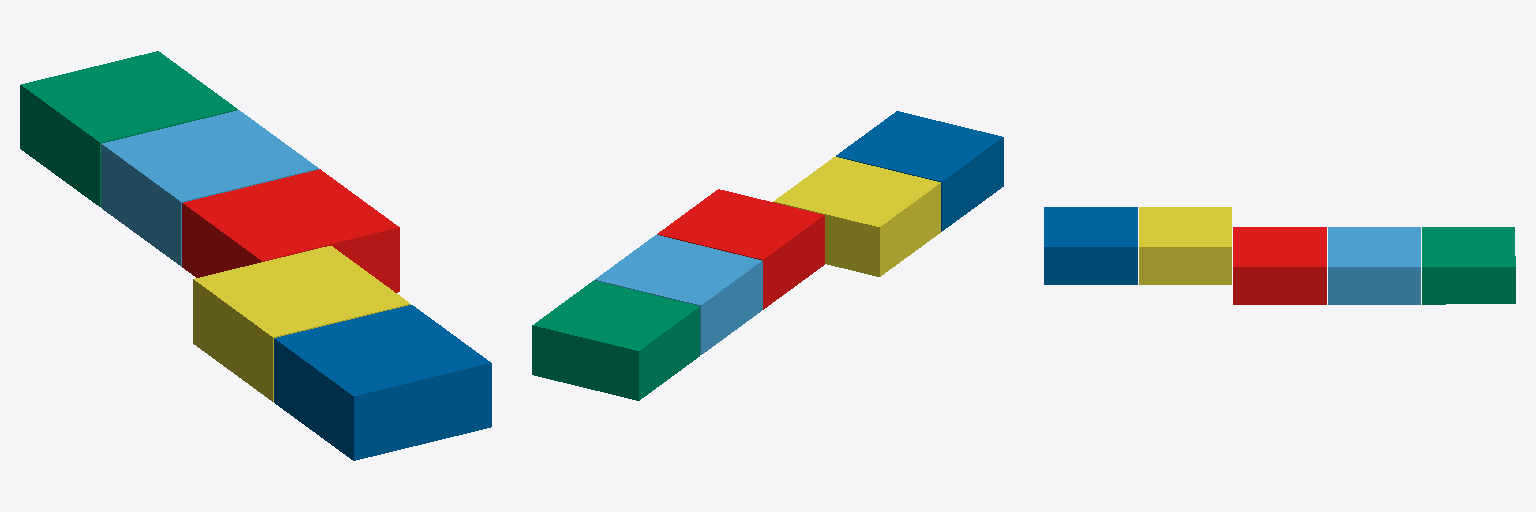
URDF robot description (estimationBasic):
<?xml version='1.0' encoding='UTF-8'?>
<robot name="estimationBasic">
  <link name="base_link">
    <inertial>
      <origin xyz="0.0 0.0 0.0" rpy="0.0 -0.0 0.0"/>
      <mass value="1.0"/>
      <inertia ixx="1.0" ixy="0.0" ixz="0.0" iyy="1.0" iyz="0.0" izz="1.0"/>
    </inertial>
    <visual>
      <geometry>
        <box size="0.67 0.67 0.3 "/>
      </geometry>
      <material name="red"/>
      <origin xyz="0.0 0.0 0.0" rpy="0.0 -0.0 0.0"/>
    </visual>
    <collision>
      <geometry>
        <box size="0.67 0.67 0.3 "/>
      </geometry>
      <origin xyz="0.0 0.0 0.0" rpy="0.0 0.0 0.0"/>
    </collision>
  </link>
  <link name="set0_arm1">
    <inertial>
      <origin xyz="0.0 0.34 0.0" rpy="0.0 0.0 0.0"/>
      <mass value="1.0"/>
      <inertia ixx="0.0" ixy="0.0" ixz="0.0" iyy="0.0" iyz="0.0" izz="0.0"/>
    </inertial>
    <visual>
      <geometry>
        <box size="0.67 0.67 0.3 "/>
      </geometry>
      <origin xyz="0.0 0.34 0.0" rpy="0.0 0.0 0.0"/>
    </visual>
    <collision>
      <geometry>
        <box size="0.67 0.67 0.3 "/>
      </geometry>
      <origin xyz="0.0 0.34 0.0" rpy="0.0 0.0 0.0"/>
    </collision>
  </link>
  <link name="set0_arm2">
    <inertial>
      <origin xyz="0.0 0.34 0.0" rpy="0.0 0.0 0.0"/>
      <mass value="1.0"/>
      <inertia ixx="0.0" ixy="0.0" ixz="0.0" iyy="0.0" iyz="0.0" izz="0.0"/>
    </inertial>
    <visual>
      <geometry>
        <box size="0.67 0.67 0.3 "/>
      </geometry>
      <origin xyz="0.0 0.34 0.0" rpy="0.0 0.0 0.0"/>
    </visual>
    <collision>
      <geometry>
        <box size="0.67 0.67 0.3 "/>
      </geometry>
      <origin xyz="0.0 0.34 0.0" rpy="0.0 0.0 0.0"/>
    </collision>
  </link>
  <link name="set1_arm1">
    <inertial>
      <origin xyz="0.0 0.34 0.0" rpy="0.0 0.0 0.0"/>
      <mass value="1.0"/>
      <inertia ixx="0.0" ixy="0.0" ixz="0.0" iyy="0.0" iyz="0.0" izz="0.0"/>
    </inertial>
    <visual>
      <geometry>
        <box size="0.67 0.67 0.3 "/>
      </geometry>
      <origin xyz="0.0 0.34 0.0" rpy="0.0 0.0 0.0"/>
    </visual>
    <collision>
      <geometry>
        <box size="0.67 0.67 0.3 "/>
      </geometry>
      <origin xyz="0.0 0.34 0.0" rpy="0.0 0.0 0.0"/>
    </collision>
  </link>
  <link name="set1_arm2">
    <inertial>
      <origin xyz="0.0 0.34 0.0" rpy="0.0 0.0 0.0"/>
      <mass value="1.0"/>
      <inertia ixx="0.0" ixy="0.0" ixz="0.0" iyy="0.0" iyz="0.0" izz="0.0"/>
    </inertial>
    <visual>
      <geometry>
        <box size="0.67 0.67 0.3 "/>
      </geometry>
      <origin xyz="0.0 0.34 0.0" rpy="0.0 0.0 0.0"/>
    </visual>
    <collision>
      <geometry>
        <box size="0.67 0.67 0.3 "/>
      </geometry>
      <origin xyz="0.0 0.34 0.0" rpy="0.0 0.0 0.0"/>
    </collision>
  </link>
  <joint name="set0_jointBase" type="fixed">
    <limit effort="1.57" velocity="1.57" lower="-1.57" upper="1.57"/>
    <parent link="base_link"/>
    <child link="set0_arm1"/>
    <axis xyz="1. 0. 0."/>
    <origin xyz="0.0 0.34 0.0" rpy="0.0 0.0 0.0008016443998810793"/>
  </joint>
  <joint name="set0_joint1" type="revolute">
    <limit effort="1.57" velocity="1.57" lower="-1.57" upper="1.57"/>
    <parent link="set0_arm1"/>
    <child link="set0_arm2"/>
    <axis xyz="1. 0. 0."/>
    <origin xyz="0.0 0.68 0.0" rpy="0.0 0.0 0.0"/>
  </joint>
  <joint name="set1_jointBase" type="fixed">
    <limit effort="1.57" velocity="1.57" lower="-1.57" upper="1.57"/>
    <parent link="base_link"/>
    <child link="set1_arm1"/>
    <axis xyz="1. 0. 0."/>
    <origin xyz="-0.34 -0.34 0.0" rpy="0.0 0.0 -3.1414337214449355"/>
  </joint>
  <joint name="set1_joint1" type="revolute">
    <limit effort="1.57" velocity="1.57" lower="-1.57" upper="1.57"/>
    <parent link="set1_arm1"/>
    <child link="set1_arm2"/>
    <axis xyz="1. 0. 0."/>
    <origin xyz="0.0 0.68 0.0" rpy="0.0 0.0 0.0"/>
  </joint>
  <material name="red">
    <color rgba="0.969 0.129 0.122 1.   "/>
  </material>
</robot>

--- Facts derived from the render (not from the file) ---
Views: 3 orthographic renders of the robot side by side, from view 1: azimuth 30°, elevation 25°; view 2: azimuth 150°, elevation 25°; view 3: azimuth 270°, elevation 25°.
Model estimationBasic with 5 links and 4 joints (2 revolute, 2 fixed), rooted at base_link, posed every joint at zero.
Visible links, largest first — view 1: set1_arm2, base_link, set0_arm1, set1_arm1, set0_arm2; view 2: set0_arm2, set1_arm1, set0_arm1, set1_arm2, base_link; view 3: base_link, set1_arm2, set0_arm1, set1_arm1, set0_arm2.
Boxes of the visible links, x1,y1,x2,y2 form: set1_arm2: (274,305,491,460); base_link: (182,169,399,292); set0_arm1: (101,110,318,266); set1_arm1: (193,246,410,401); set0_arm2: (20,51,237,206); set0_arm2: (532,280,699,400); set1_arm1: (773,157,940,276); set0_arm1: (595,235,762,354); set1_arm2: (836,111,1003,231); base_link: (657,189,824,309); base_link: (1233,227,1326,304); set1_arm2: (1044,207,1137,284); set0_arm1: (1328,227,1420,304); set1_arm1: (1139,207,1231,284); set0_arm2: (1422,227,1515,304).
Bounding box of the posed robot: 1.01 × 3.39 × 0.3 m (x, y, z).
Geometry: primitives only (box / cylinder / sphere), no mesh files.